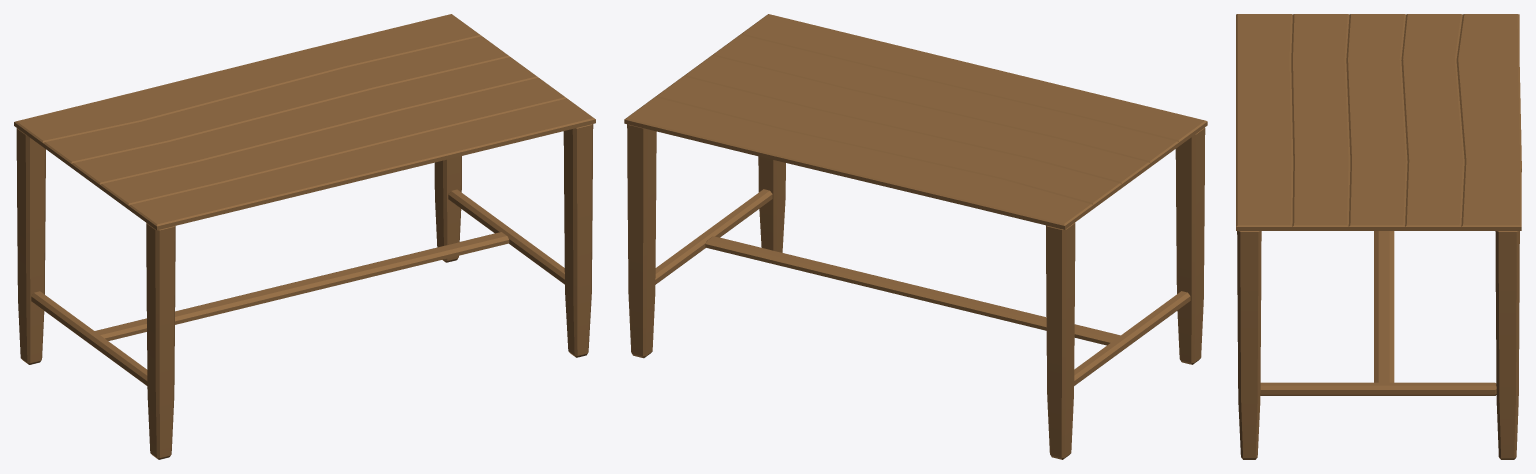
The model's file is table.glb.
3 views of the same model, side by side, from view 1: azimuth 30°, elevation 25°; view 2: azimuth 150°, elevation 25°; view 3: azimuth 270°, elevation 25° (orthographic).
Visible parts, largest first — view 1: table_a001.001; view 2: table_a001.001; view 3: table_a001.001.
Part boxes in pixels (x1,y1,x2,y2): table_a001.001: (14,14,595,459); table_a001.001: (624,14,1207,459); table_a001.001: (1236,14,1521,459).
Size of the model in its own units: 1.24 by 0.6416 by 0.7021.
